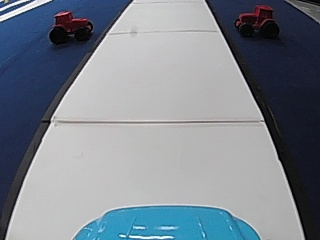tractor: (232, 3, 280, 40), (48, 8, 94, 44)
